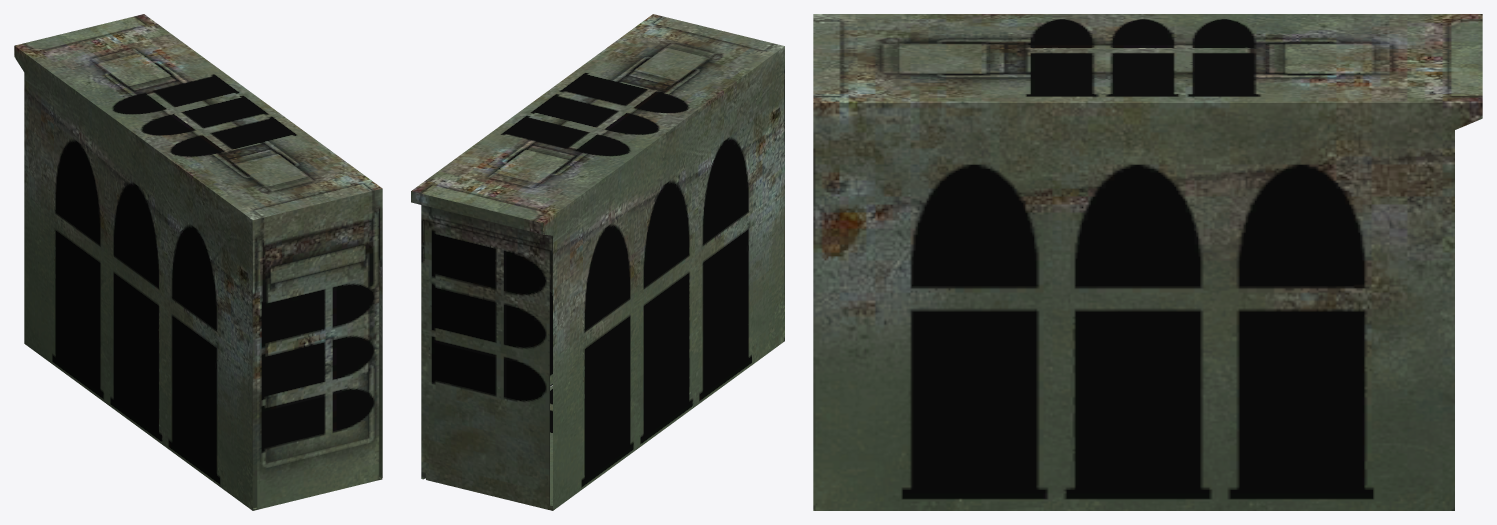
The model's file is AmmoUgly.obj.
3 renders of one model, left to right at view 1: azimuth 30°, elevation 25°; view 2: azimuth 150°, elevation 25°; view 3: azimuth 270°, elevation 25°, orthographic. The views are drawn at different scales.
Parts seen in each view (by area): view 1: AmmoUgly; view 2: AmmoUgly; view 3: AmmoUgly.
Part boxes in pixels (bbox=[...]): AmmoUgly: bbox=[14, 14, 382, 510]; AmmoUgly: bbox=[411, 14, 784, 510]; AmmoUgly: bbox=[813, 14, 1482, 510].
Bounding box in the file's own units: 44.97 × 96.23 × 143.
Materials: 1 (1 with a texture image).
